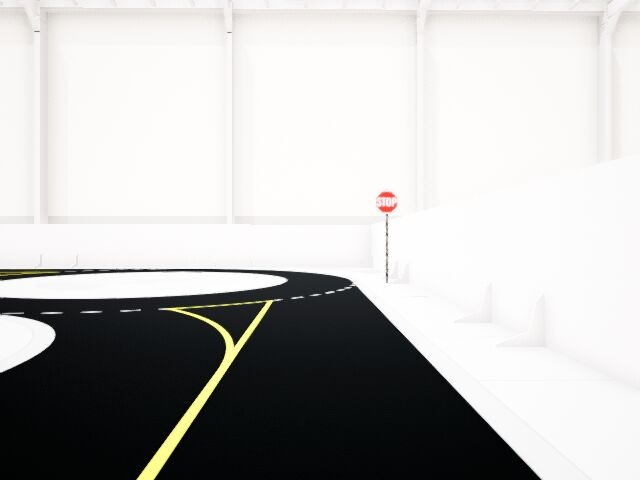stopsign: (375, 188, 400, 215)
